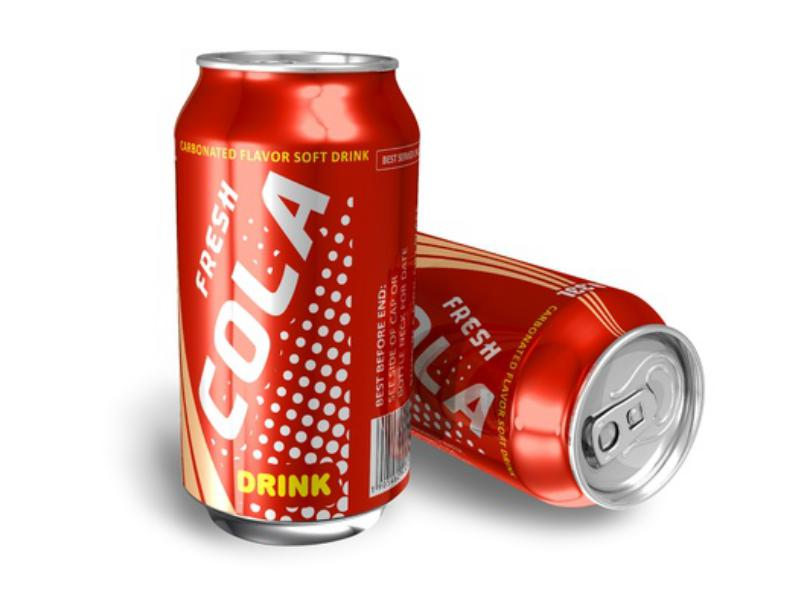can: (173, 45, 416, 543), (441, 241, 724, 526)
